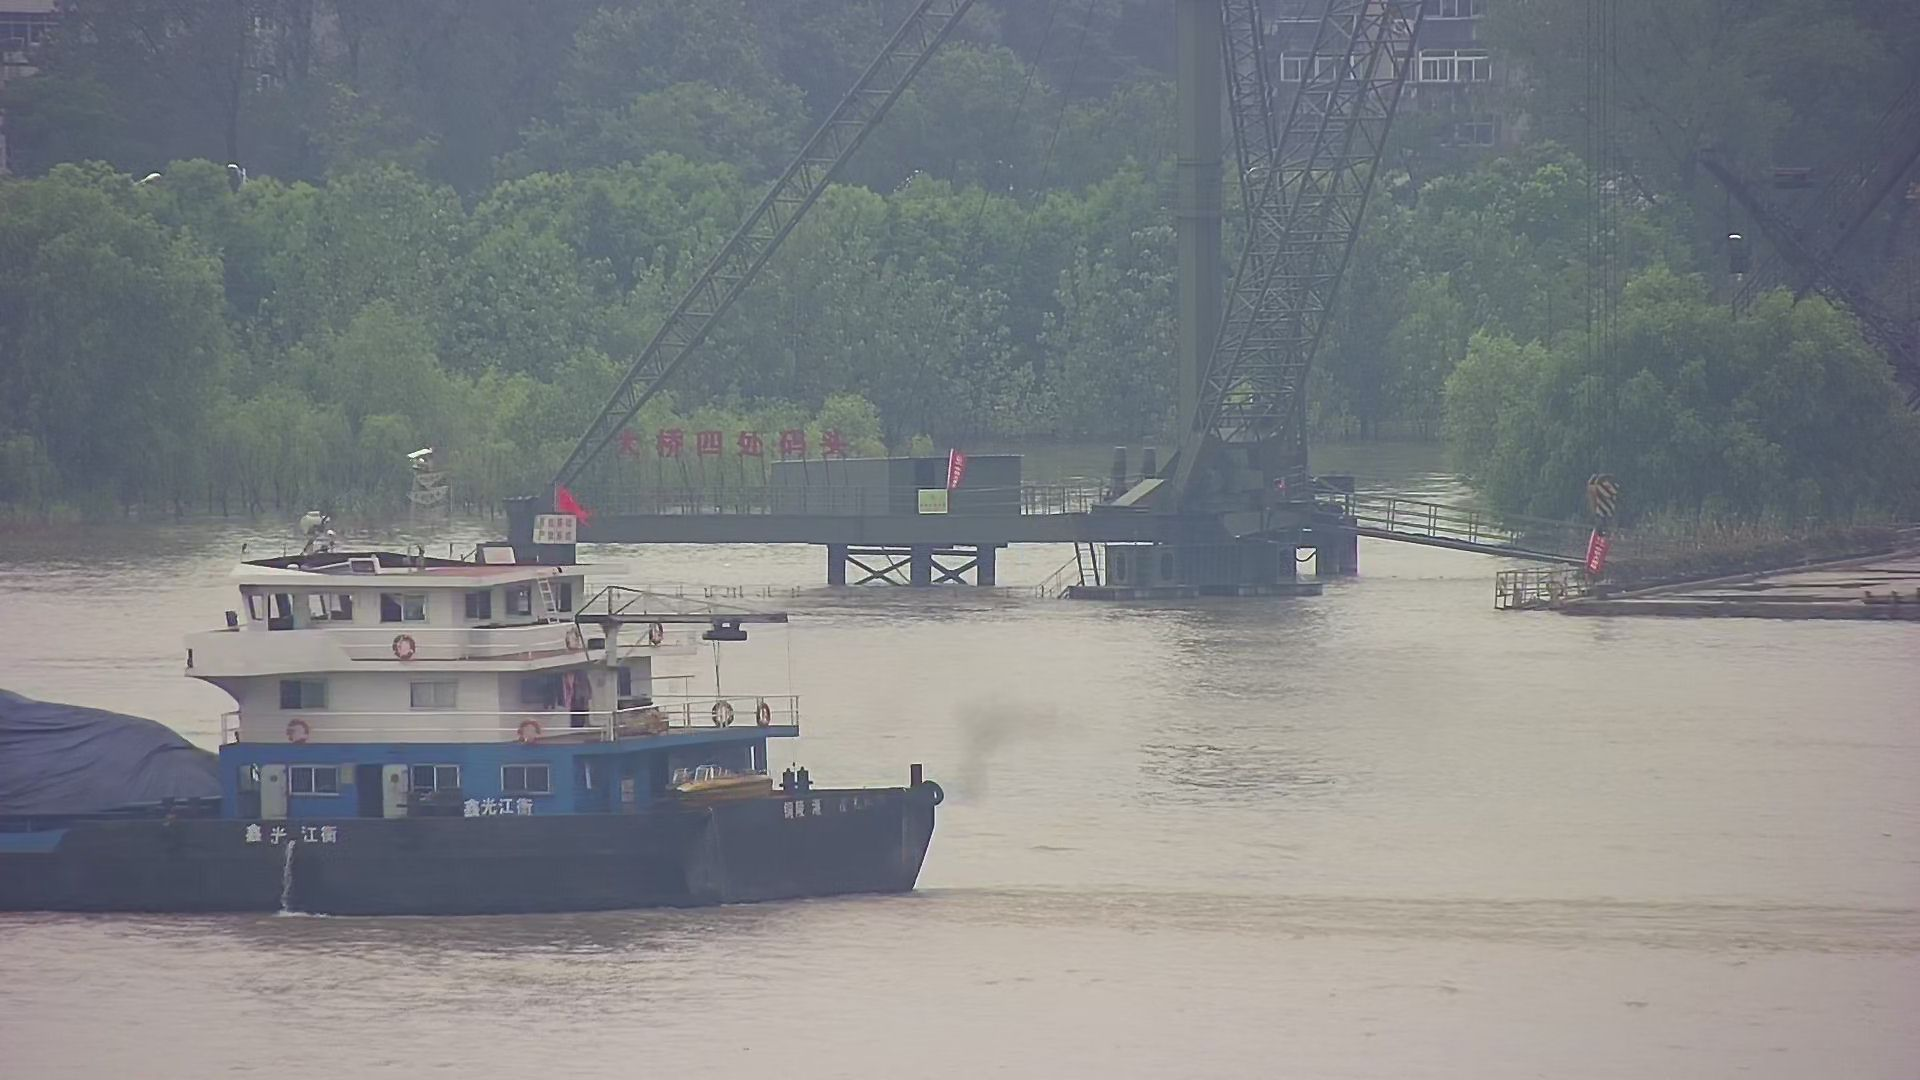platform: (475, 1, 1415, 620)
ship: (1, 443, 963, 931)
